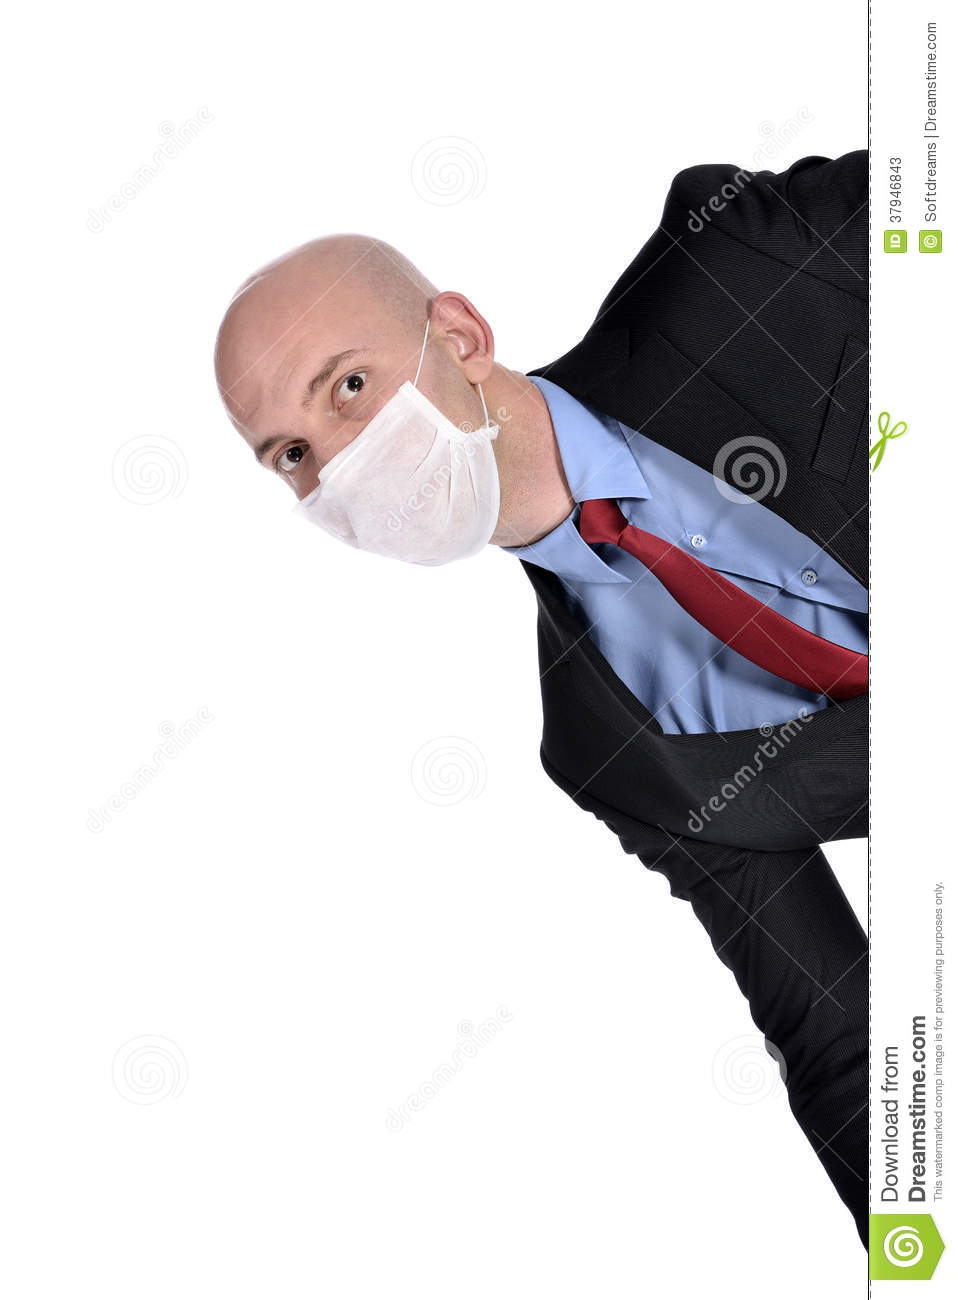mask: (305, 394, 498, 573)
